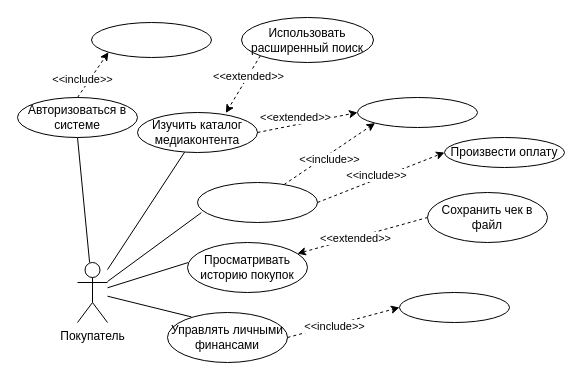
The diagram is 582 pixels wide and 380 high, and some of its shapes have lost their labels. The box of each missing label's shape, as (x1, y1, x2, y2) in pixels:
Ввести данные пользователя: (90, 22, 212, 58)
Выбрать файл: (356, 96, 478, 128)
Пополнить счет: (398, 292, 510, 322)
Приобрести медиафайл: (196, 182, 318, 222)
